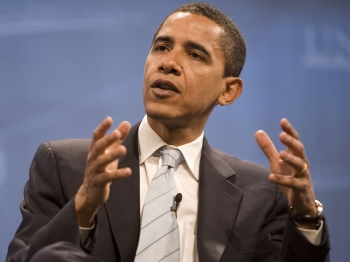hand: (254, 116, 314, 211), (85, 115, 132, 205)
